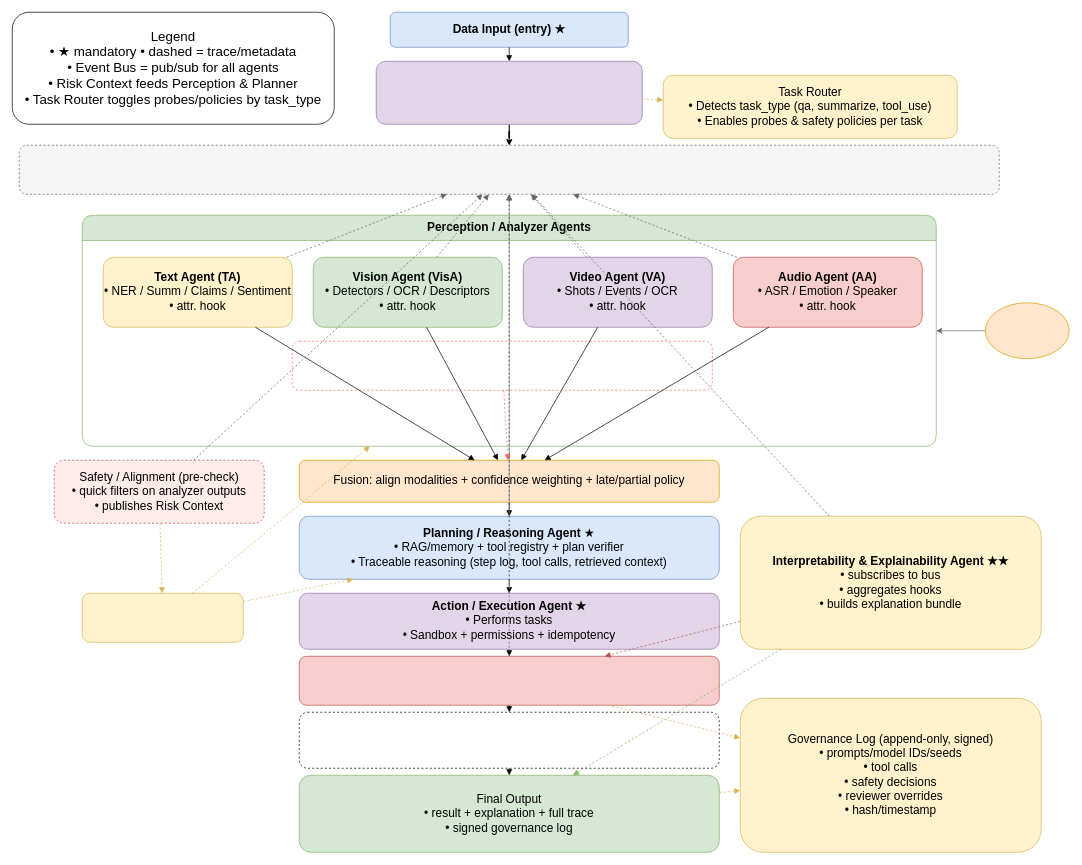
Image size: 1082x865. Some labels were removed from this diagram. The box of each missing label's shape, as (x1, y1, x2, y2) in pixels:
Coordinator / Orchestrator • Interprets task • Chooses agents • Manages workflow: (376, 61, 642, 124)
Event Bus (pub/sub) {event_type, payload, confidence, provenance, trace_id}: (19, 145, 999, 194)
Human-in-the-Loop Review • escalations/overrides • risk adjudication: (299, 712, 719, 768)
Risk Context {bias, toxicity, privacy, flags, policy}: (82, 593, 243, 642)
Risk-VQA (bias, toxicity, AI risks): (292, 341, 712, 390)
Rule based filtering (pre processing): (985, 302, 1069, 359)
Safety / Alignment (final gate) • bias/toxicity/privacy/compliance: (299, 656, 719, 705)
